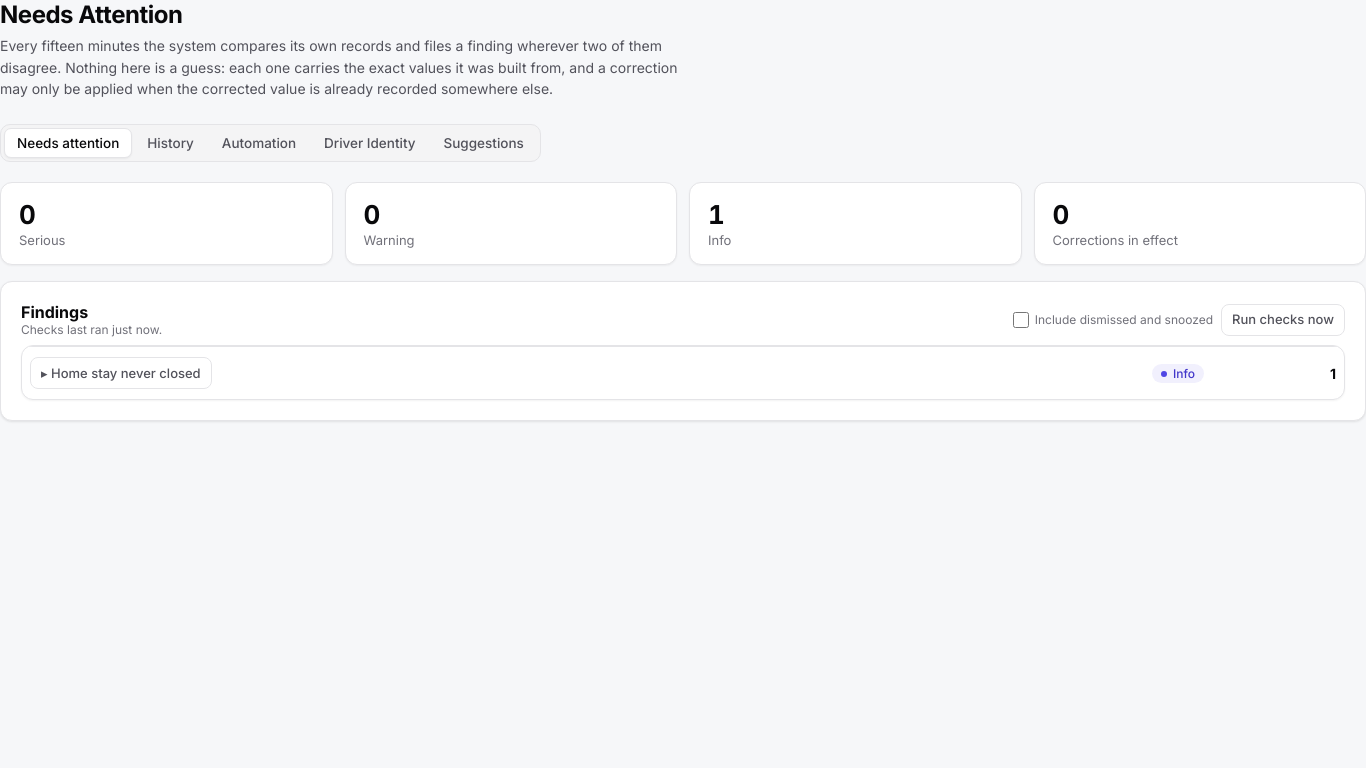
Test case: looking is not changing › a 403 from apply is explained as a missing permission, not as a fault
This screenshot has width=1366, height=768.
Click the button "▸ Home stay never closed" at (121, 373), box [30, 357, 212, 389]
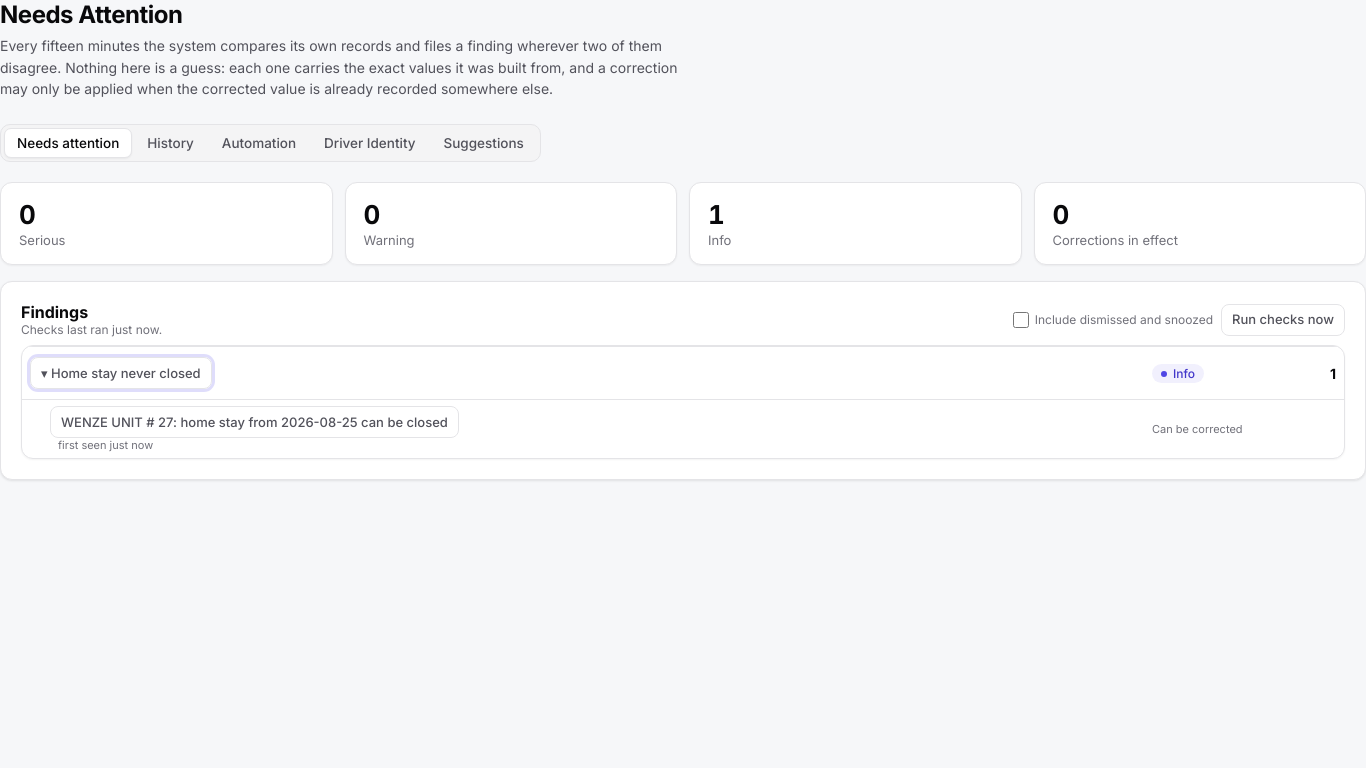
Click the button "WENZE UNIT # 27: home stay from 2026-08-25 can be closed" at (254, 422), box [50, 406, 459, 438]
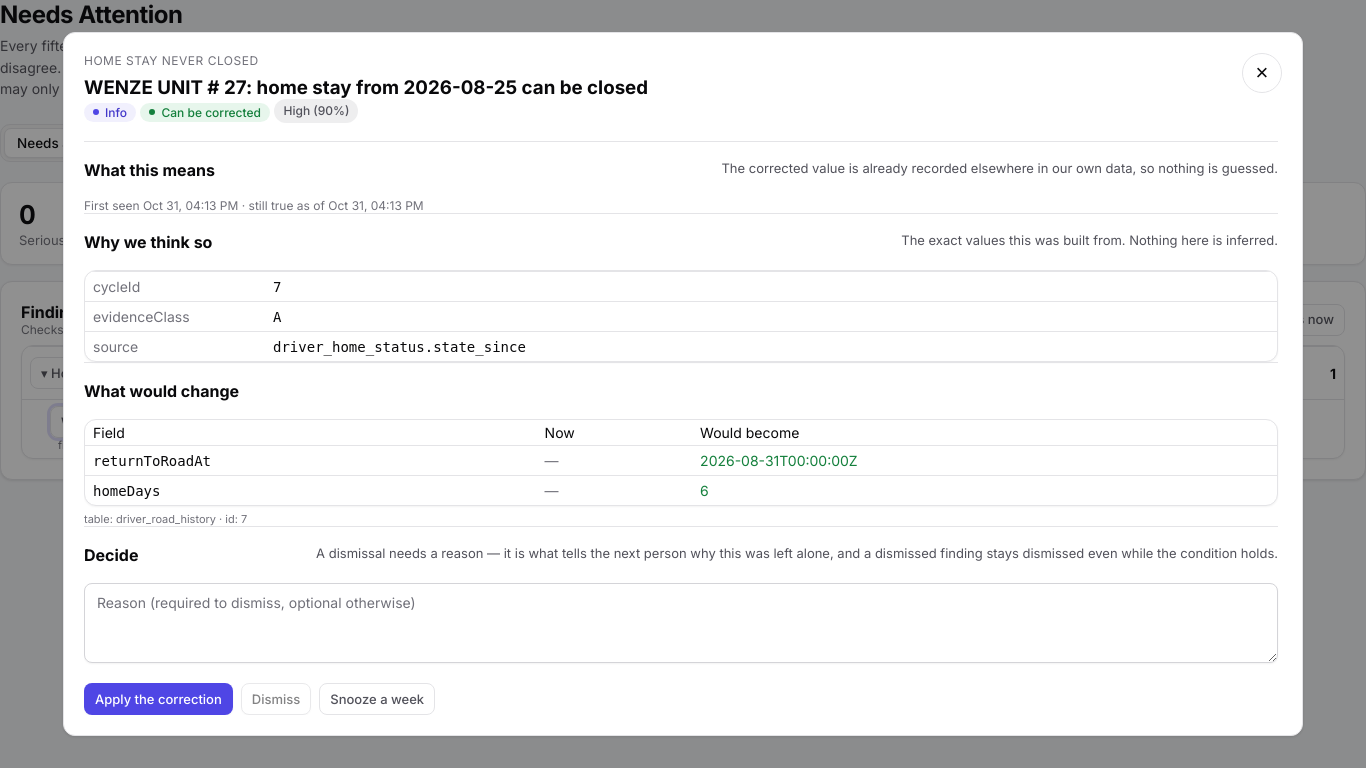
Click the button "Apply the correction" at (158, 699), box [84, 683, 233, 715]
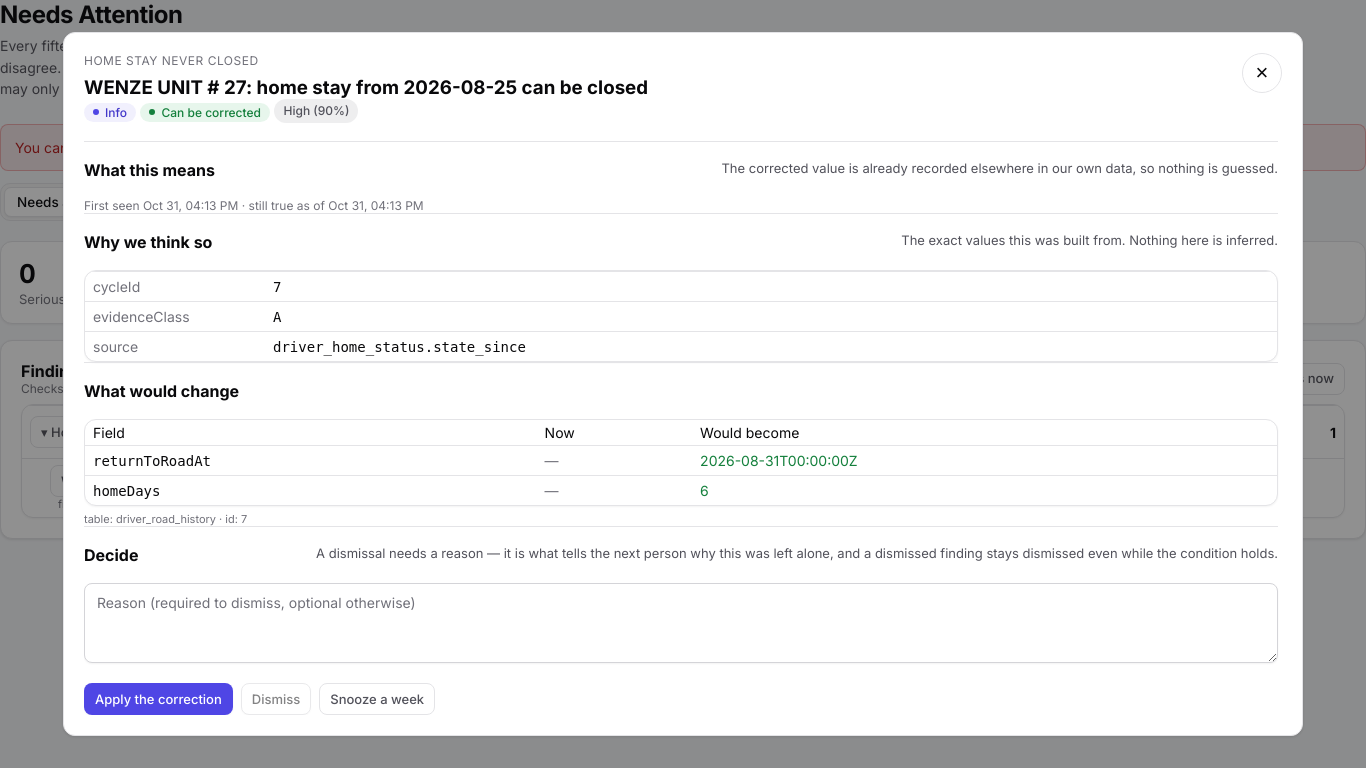
Now the text "operations.corrections.apply" is shown, box [15, 139, 754, 156]
